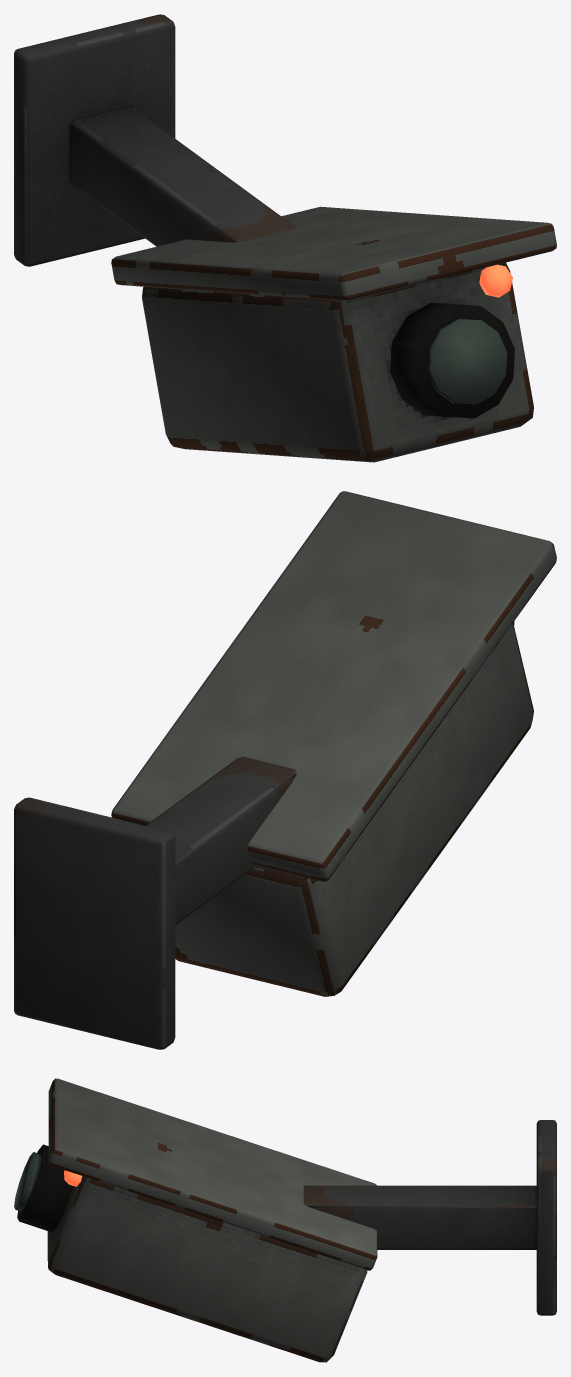
The model's file is camera.glb.
The picture shows the model from 3 angles, top to bottom: view 1: azimuth 30°, elevation 25°; view 2: azimuth 150°, elevation 25°; view 3: azimuth 270°, elevation 25°; orthographic projection. The views are drawn at different scales.
Visible parts, largest first — view 1: head, camera, led; view 2: head, camera; view 3: head, camera.
Boxes of the visible parts, x1,y1,x2,y2 form: head: (111, 206, 556, 462); camera: (14, 14, 296, 266); led: (479, 264, 512, 297); head: (111, 491, 556, 996); camera: (14, 756, 296, 1049); head: (14, 1078, 377, 1362); camera: (303, 1120, 556, 1315).
Bounding box in the file's own units: 0.17 × 0.2426 × 0.5346.
Materials: 3 (2 with a texture image).
